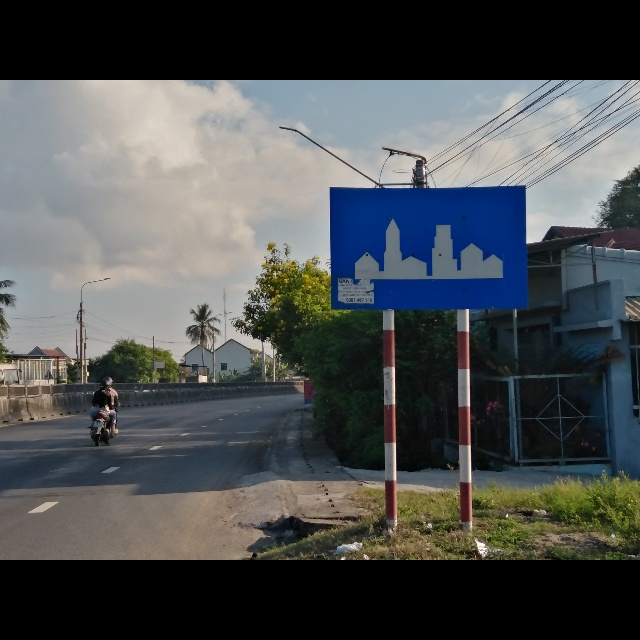Khu đông dân cư: (328, 182, 532, 311)
